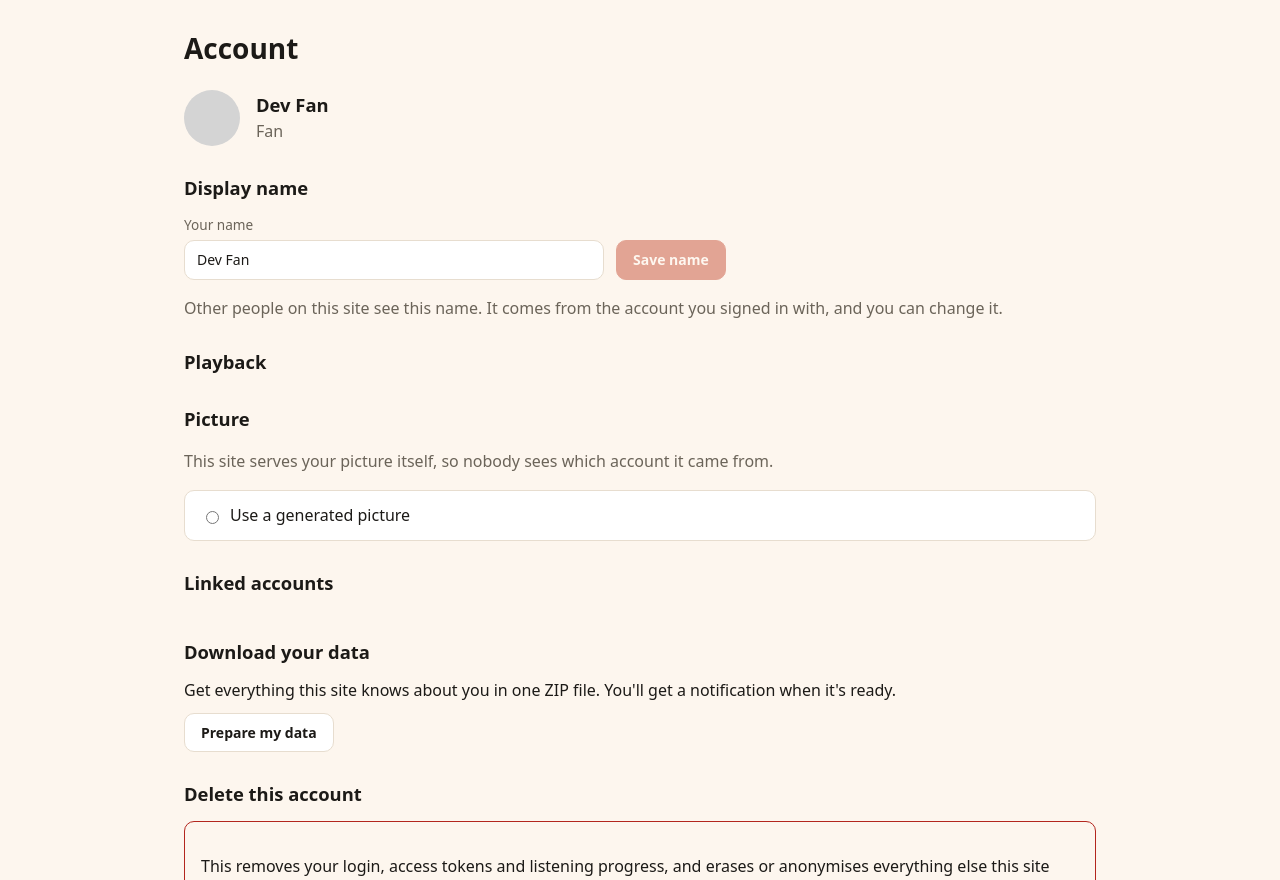
it: AccountPage display name (ARCHITECTURE §8.6) › translates the display-name-refused refusal from the problem type
The width and height of the screenshot is (1280, 880).
Replace the text in the field labelled "Your name" with "Something Else" at (394, 260), box [184,240,604,280]
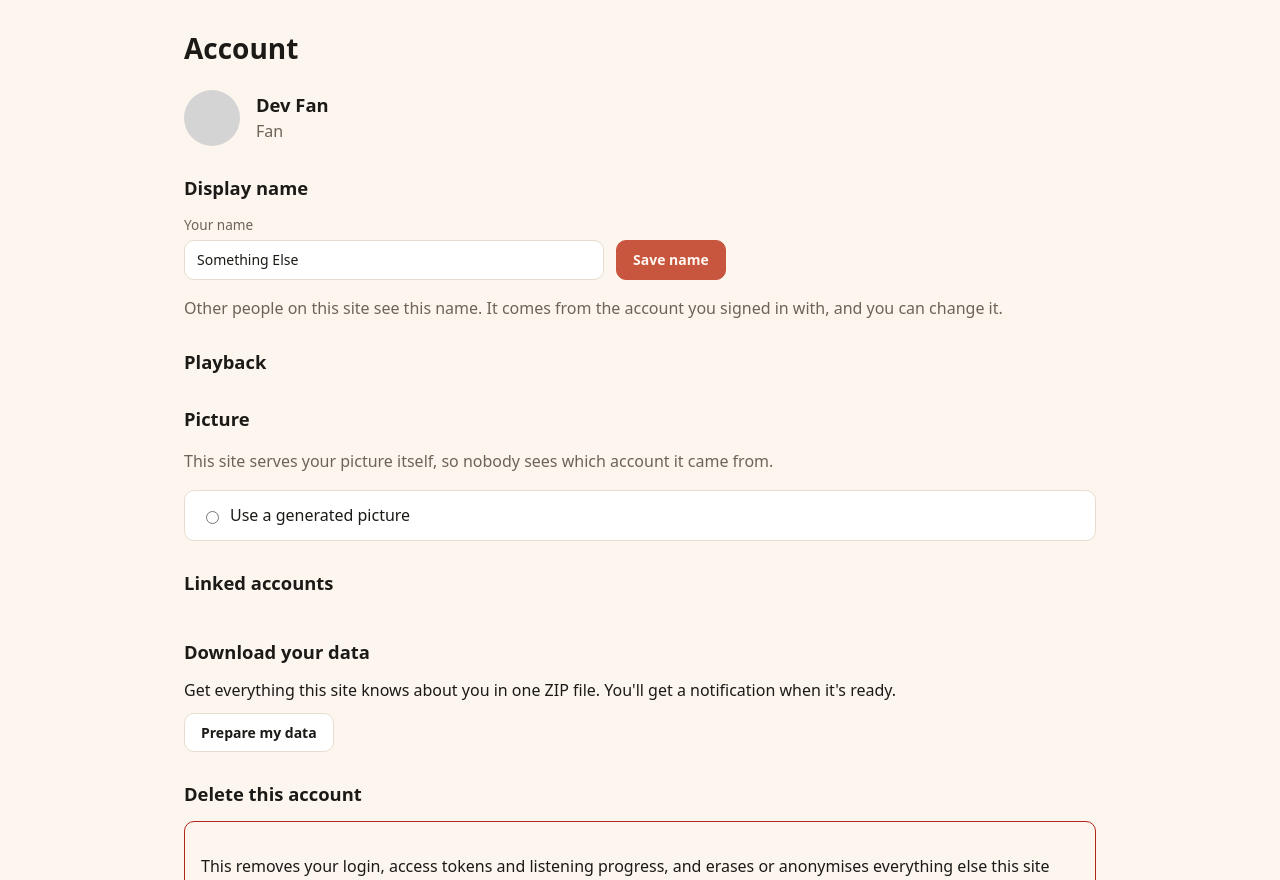
Click the button "Save name" at (671, 260), box [616,240,726,280]
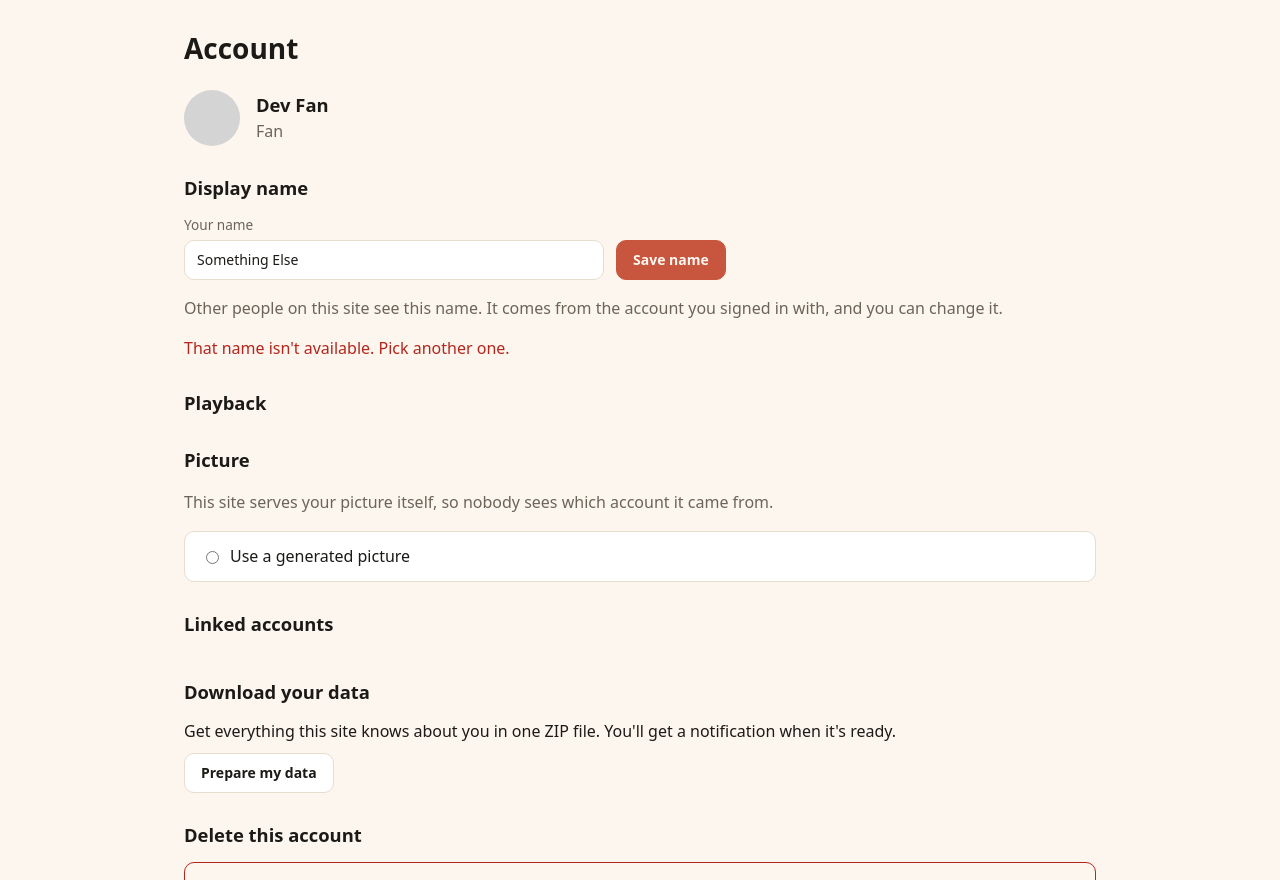
expect the text "That name isn't available. Pick another one." is shown: met, box [184,338,510,360]
